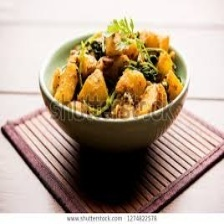sabzi: (49, 27, 187, 120)
